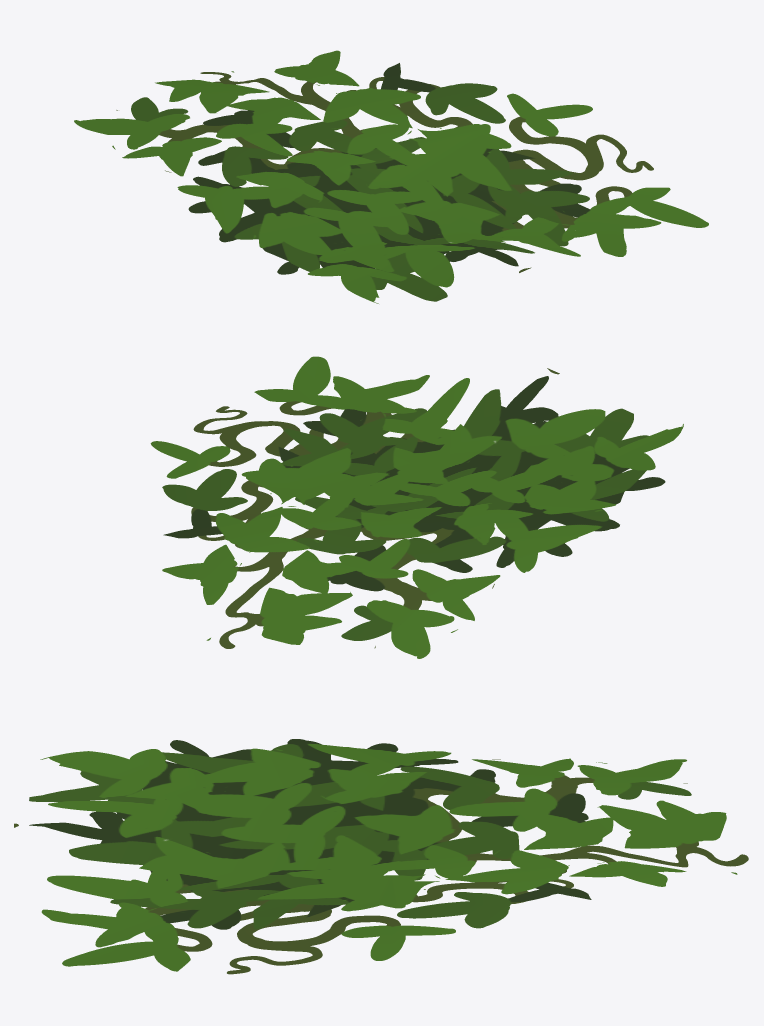
File: SM_Vine06.FBX
The picture shows the model from 3 angles, top to bottom: view 1: azimuth 30°, elevation 25°; view 2: azimuth 150°, elevation 25°; view 3: azimuth 270°, elevation 25°; orthographic projection. The views are drawn at different scales.
Parts seen in each view (by area): view 1: Plane006; view 2: Plane006; view 3: Plane006.
Part boxes in pixels (left/top/right/bottom): Plane006: left=74, top=50, right=708, bottom=303; Plane006: left=150, top=356, right=683, bottom=658; Plane006: left=14, top=739, right=748, bottom=974.
Bounding box in the file's own units: 67.63 × 9.33 × 84.79.
1 material, 1 textured.
